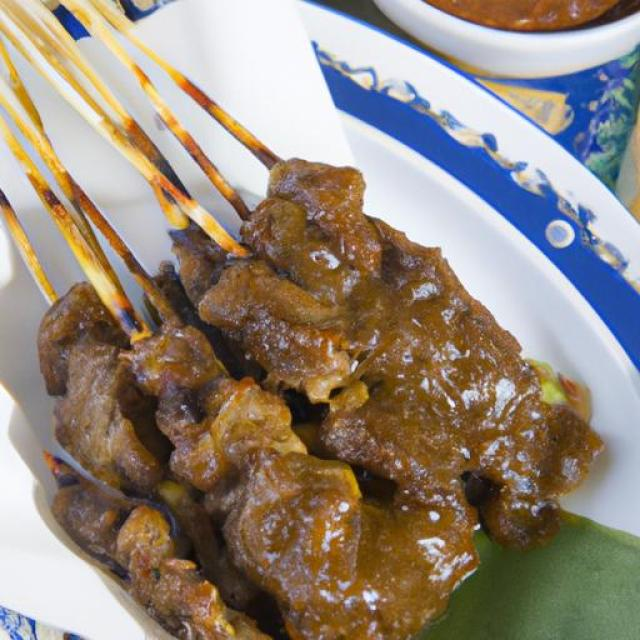Sate: (0, 6, 636, 640)
